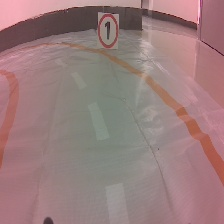limit: (95, 10, 123, 53)
